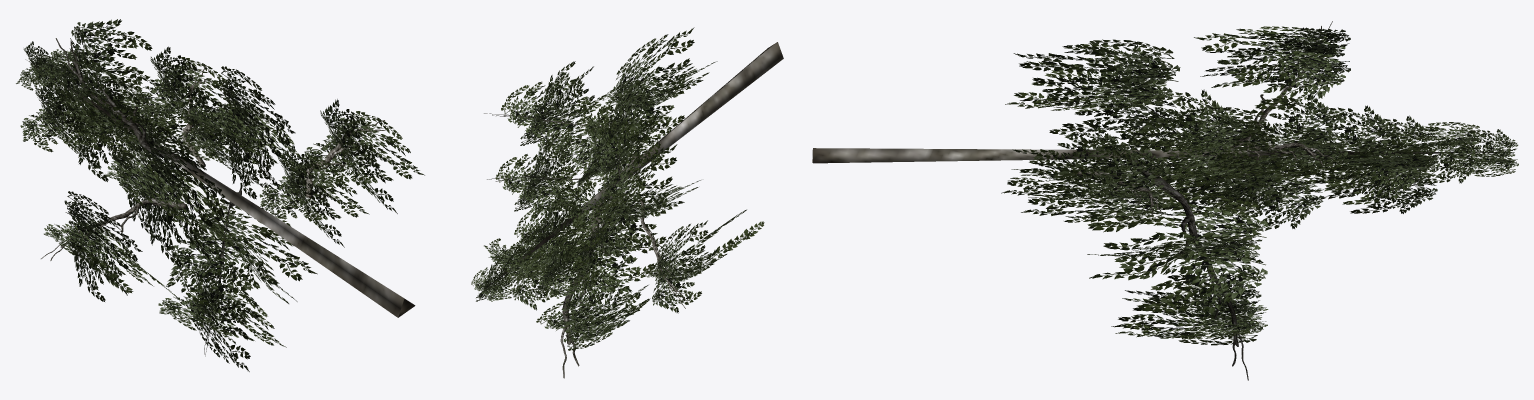
The model's file is MEP_Birch_01_f_LOD_02.fbx.
3 views of the same model, side by side, from view 1: azimuth 30°, elevation 25°; view 2: azimuth 150°, elevation 25°; view 3: azimuth 270°, elevation 25° (orthographic). The views are drawn at different scales.
Parts seen in each view (by area): view 1: MEP_Birch_01_f_LOD_02; view 2: MEP_Birch_01_f_LOD_02; view 3: MEP_Birch_01_f_LOD_02.
Boxes of the visible parts, x1,y1,x2,y2 form: MEP_Birch_01_f_LOD_02: (16, 19, 424, 371); MEP_Birch_01_f_LOD_02: (471, 27, 783, 378); MEP_Birch_01_f_LOD_02: (812, 21, 1518, 380).
Size of the model in its own units: 10.28 by 10.99 by 20.65.
